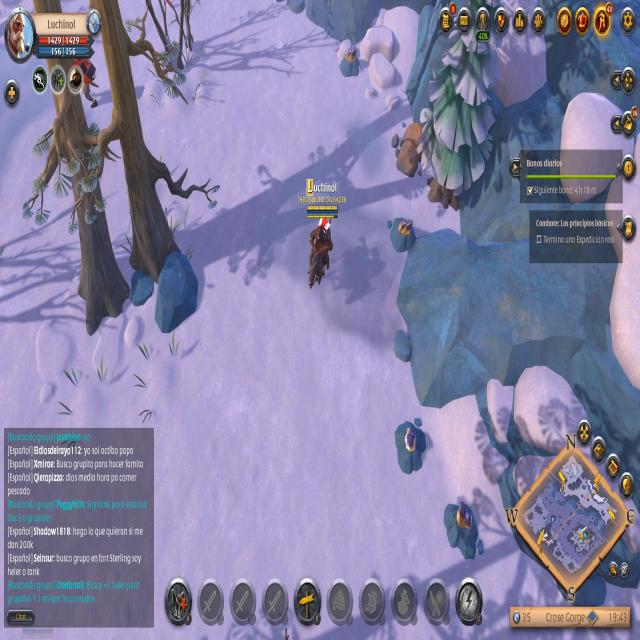piedra_cobre: (443, 500, 480, 561), (395, 420, 425, 474), (389, 217, 416, 253), (339, 46, 359, 78)
